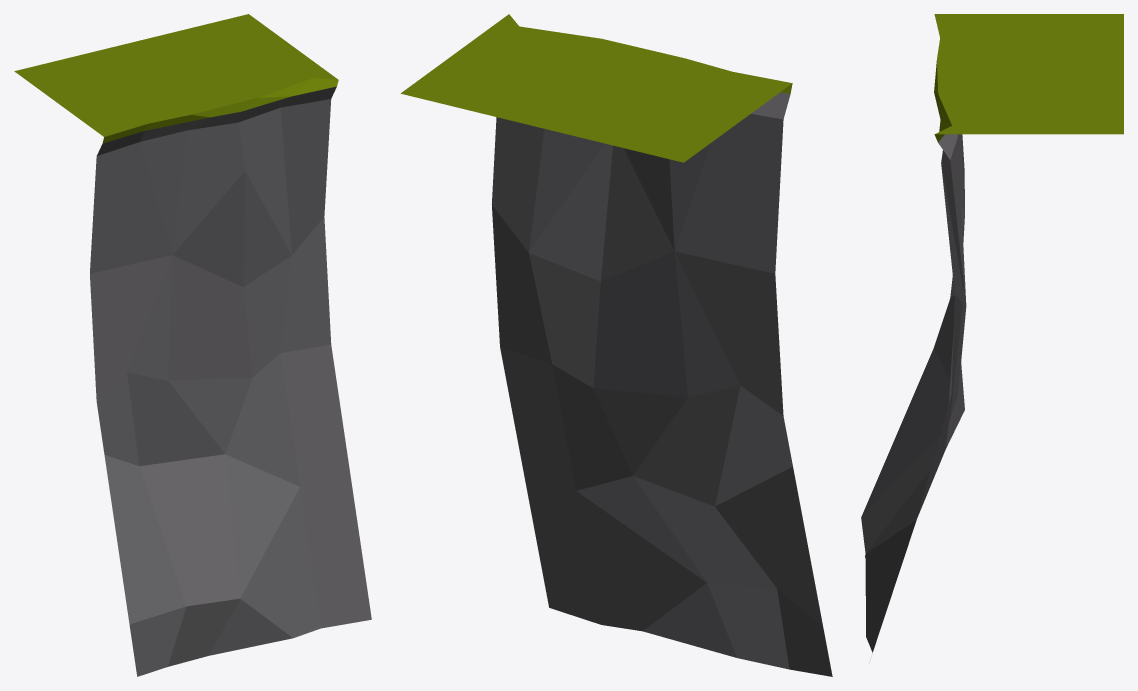
Rendered from mesh_cliff_4x1m_01.fbx.
The picture shows the model from 3 angles, left to right: view 1: azimuth 30°, elevation 25°; view 2: azimuth 150°, elevation 25°; view 3: azimuth 270°, elevation 25°; orthographic projection. The views are drawn at different scales.
Visible parts, largest first — view 1: mesh_cliff_4x1m_01; view 2: mesh_cliff_4x1m_01; view 3: mesh_cliff_4x1m_01.
Boxes of the visible parts, left/top/right/bottom form: mesh_cliff_4x1m_01: left=14, top=14, right=371, bottom=676; mesh_cliff_4x1m_01: left=401, top=14, right=832, bottom=676; mesh_cliff_4x1m_01: left=861, top=14, right=1123, bottom=652.
Size of the model in its own units: 200 by 420 by 184.
